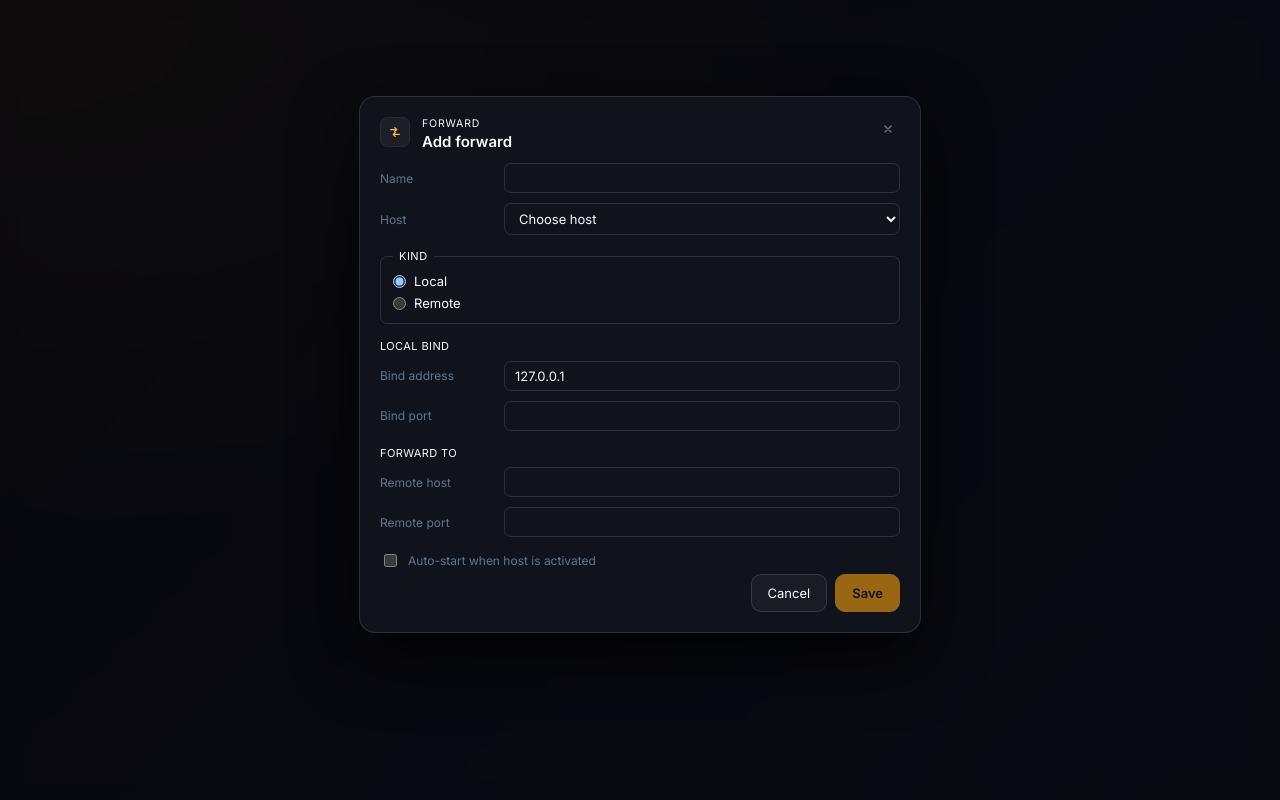
ForwardFormModal › switching kind to remote re-labels bind/remote sections
Step 1. Click the radio button labelled "Remote" → (400, 303), box [393, 296, 406, 310]
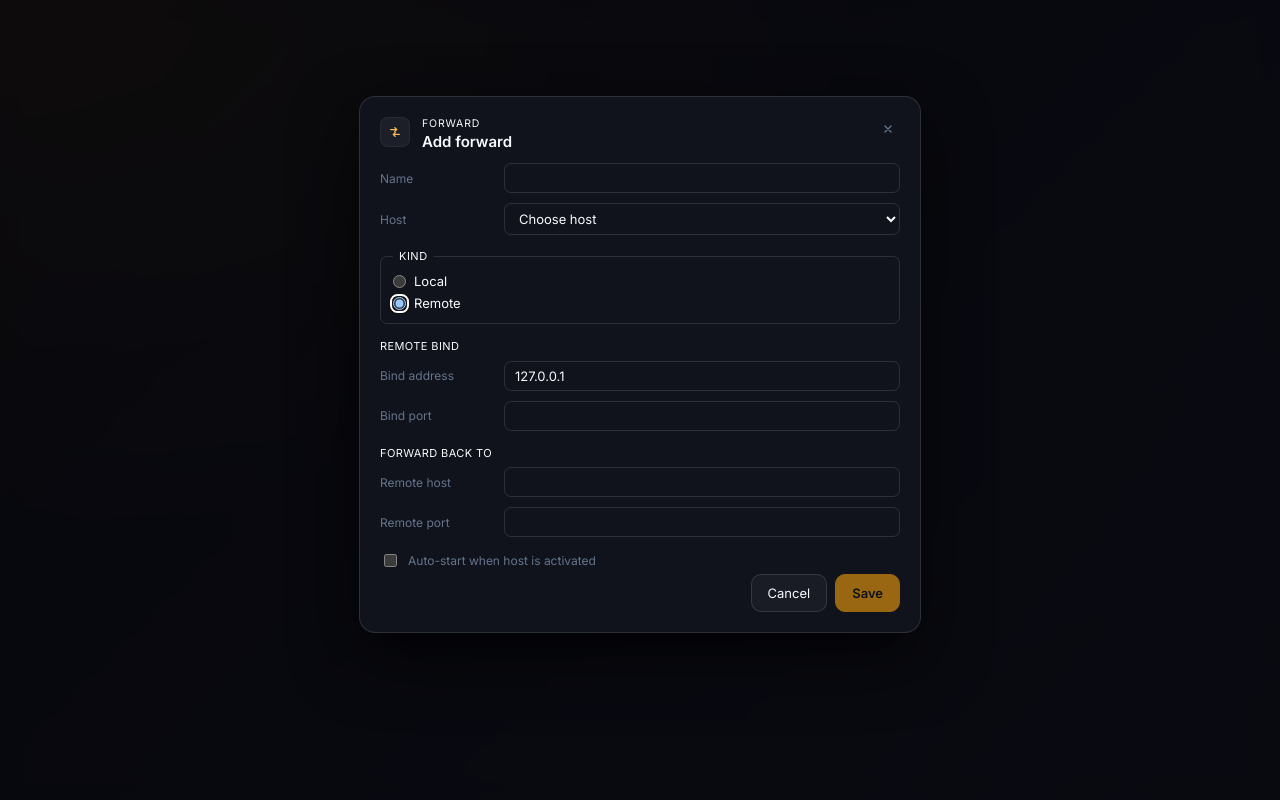
Now the text "Remote bind" is shown, box [380, 339, 459, 353]
Now the text "Forward back to" is shown, box [380, 446, 492, 460]
